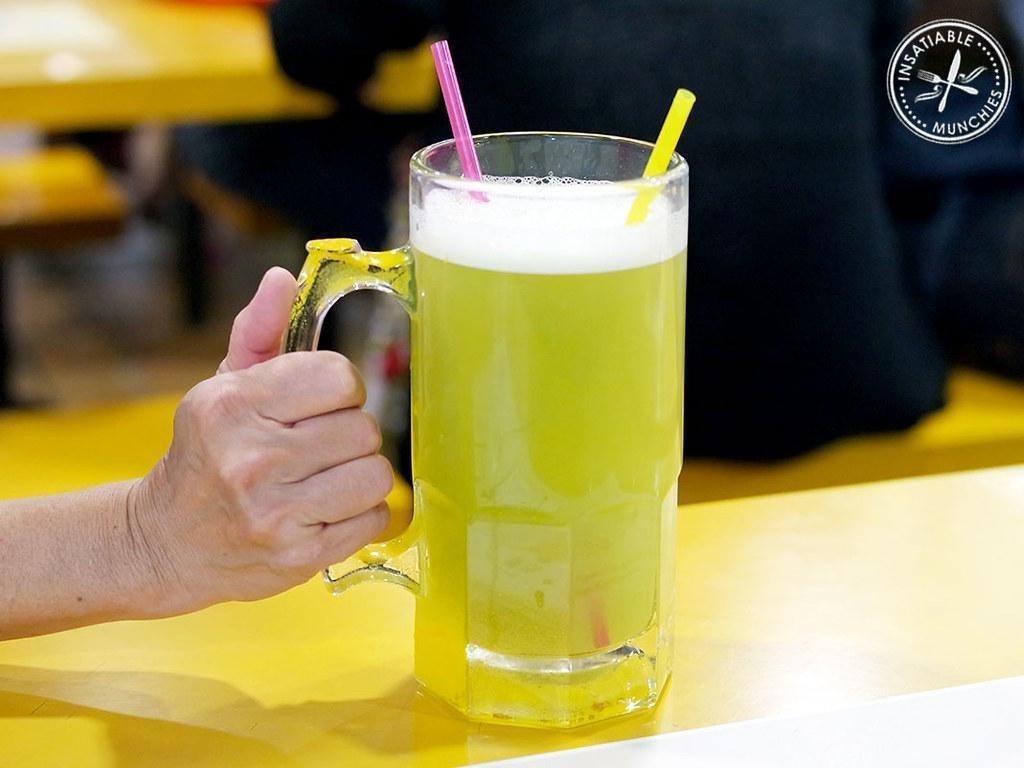glass-mug: (278, 130, 695, 733)
